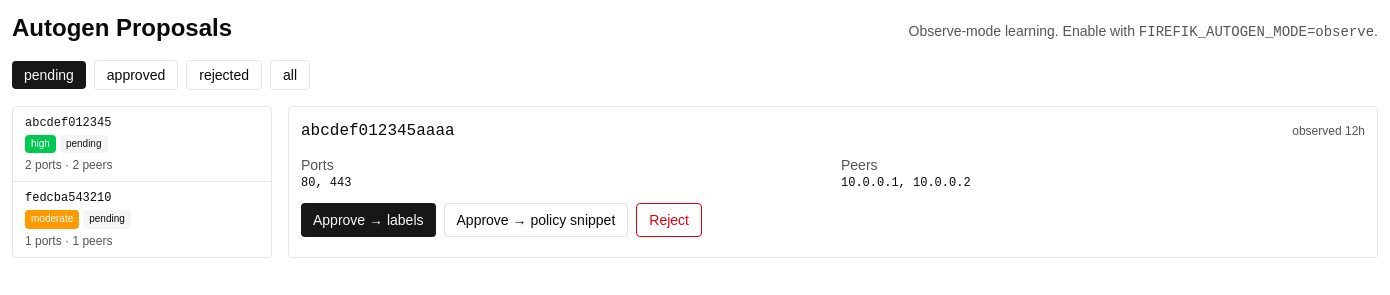
ProposalsPage › switches to the approved bucket when the filter button is pressed
Expected: the text "abcdef012345" is shown, [25, 116, 111, 130]
Click the button "approved" at (136,75), box [94, 60, 178, 90]
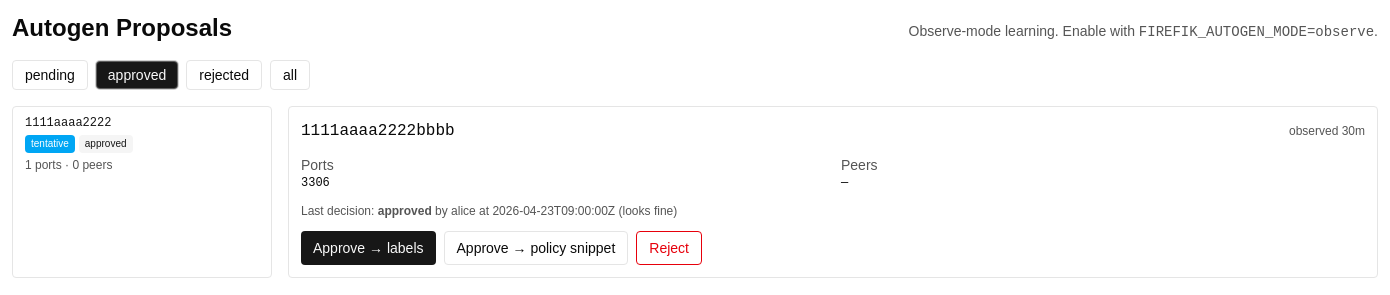
Now the text "1111aaaa2222" is shown, box [25, 116, 111, 130]
Now the button "abcdef012345" is gone
